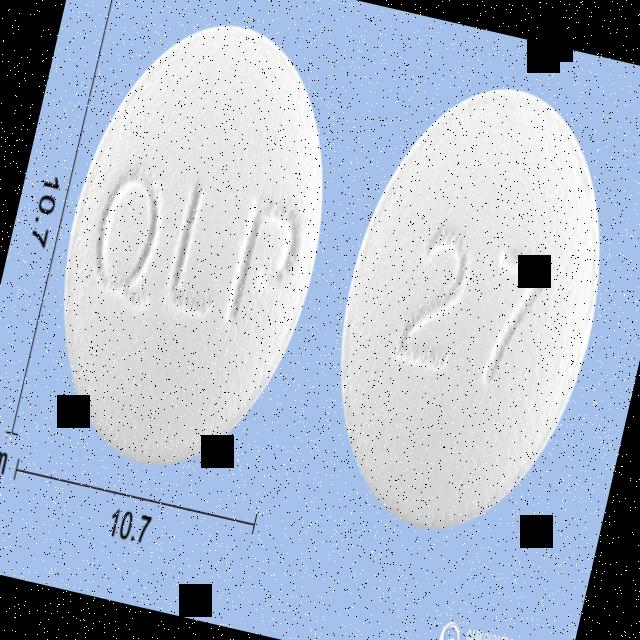Cyrus: (299, 57, 640, 554), (22, 0, 365, 491)
